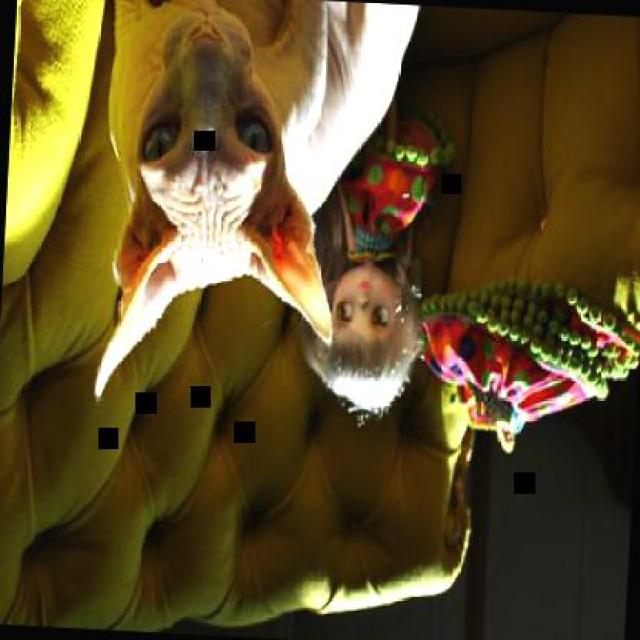cat: (90, 0, 424, 417)
